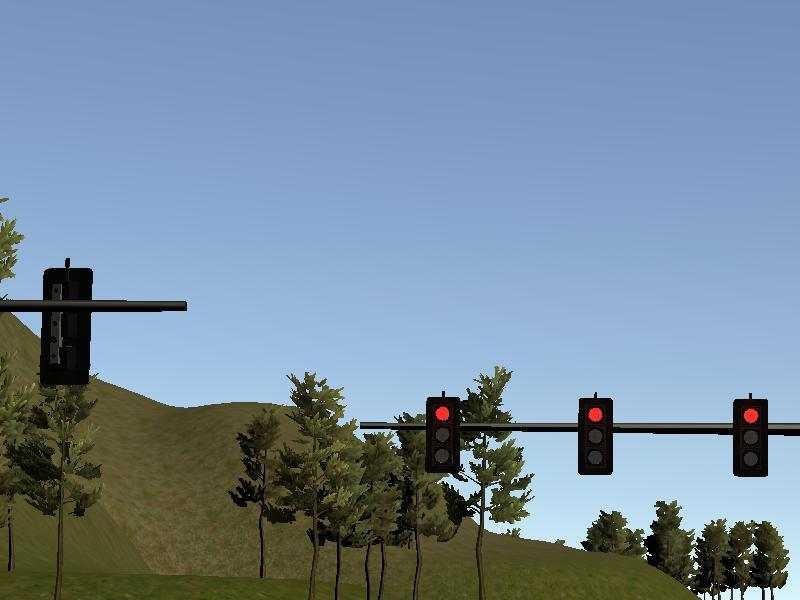Red: (735, 400, 770, 474), (579, 399, 612, 475), (428, 396, 459, 470)
